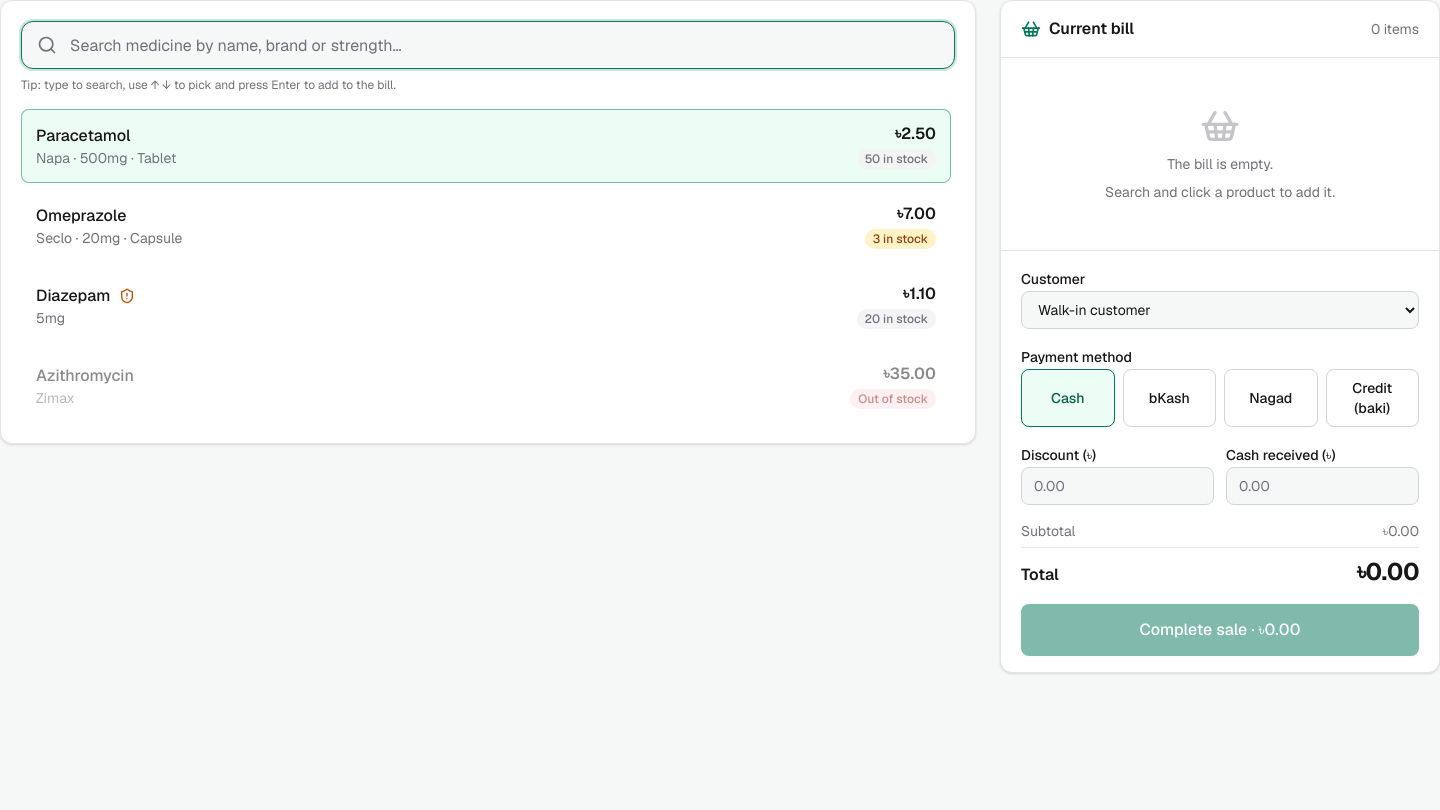
it: PointOfSale › searches across generic name, brand and strength, all terms required
Type "napa 500" into the field named "Search products" at (488, 45), box x1=21 y1=21 x2=955 y2=69
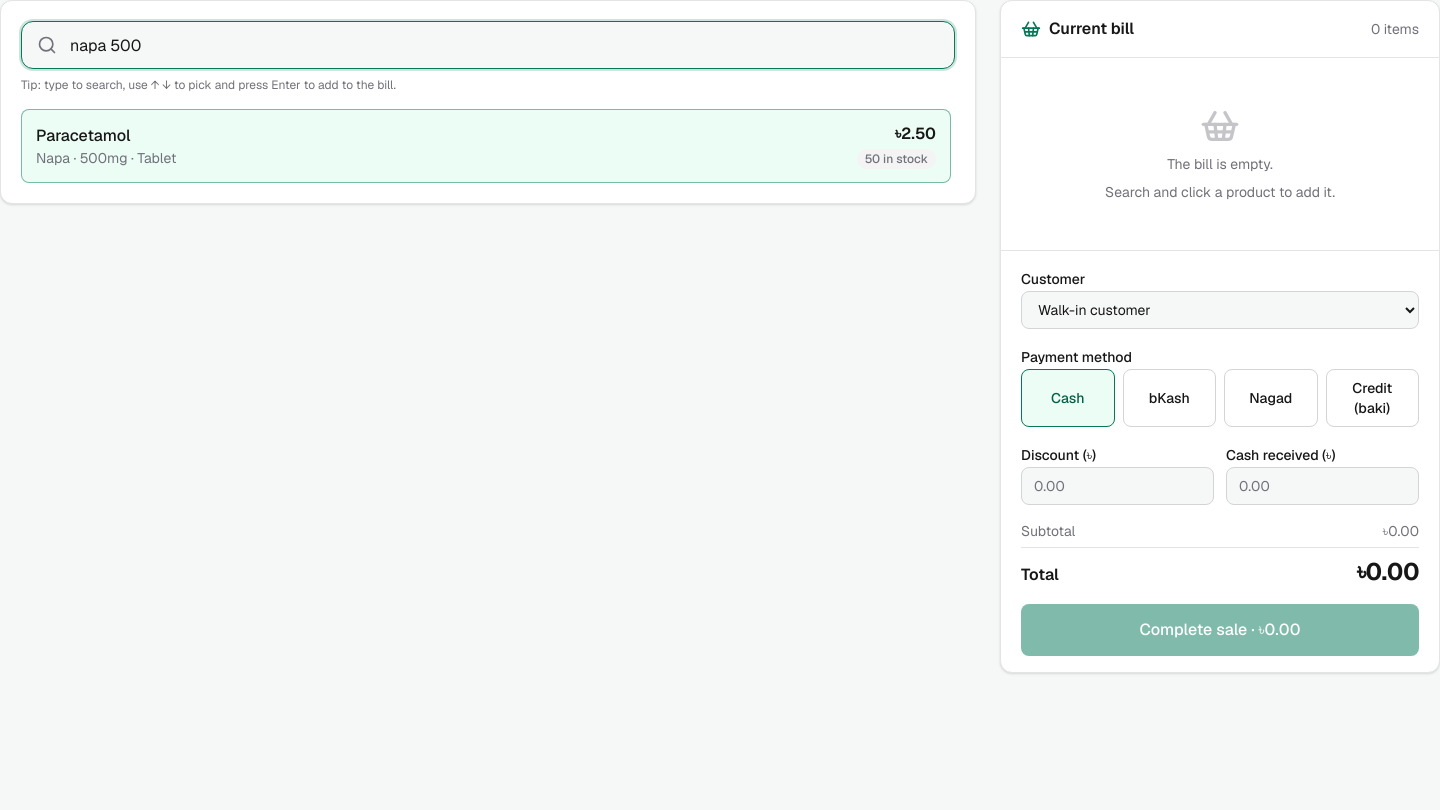
Expected: the button "Paracetamol Napa · 500mg · Tablet ৳2.50 50 in stock" is shown, x1=21 y1=109 x2=951 y2=183
Expected: the button "Omeprazole" is gone
Replace the text in the field named "Search products" with "zzz" at (488, 45), box x1=21 y1=21 x2=955 y2=69
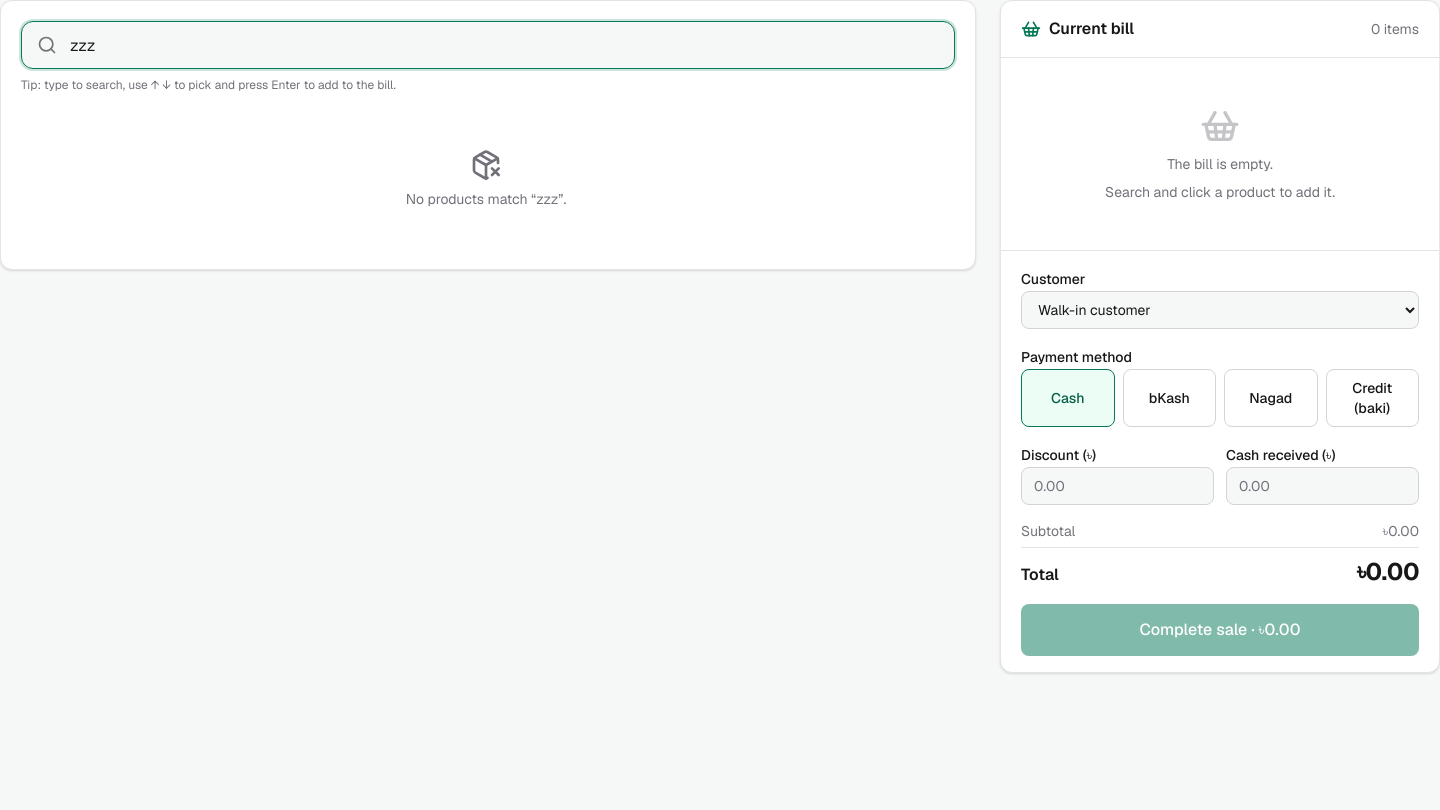
Expected: the list item "No products match “zzz”." is shown, x1=406 y1=149 x2=566 y2=208
